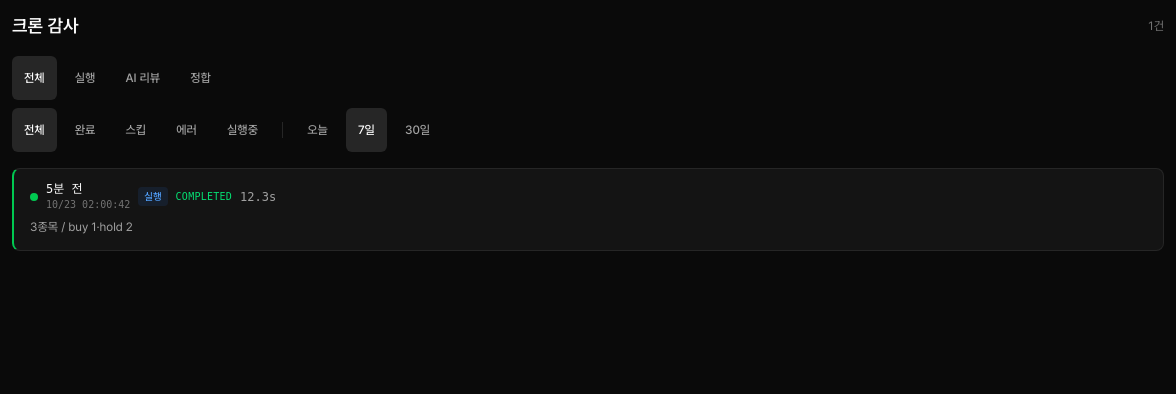
Test: CronRunsPage › renders the gate block alongside score components (merged detail shape)
Expected: the text "COMPLETED" is shown, [176,189,232,204]
Click the button "5분 전 10/23 02:00:42 실행 COMPLETED 12.3s 3종목 / buy 1·hold 2" at point(64, 189), box [14,169,1163,250]
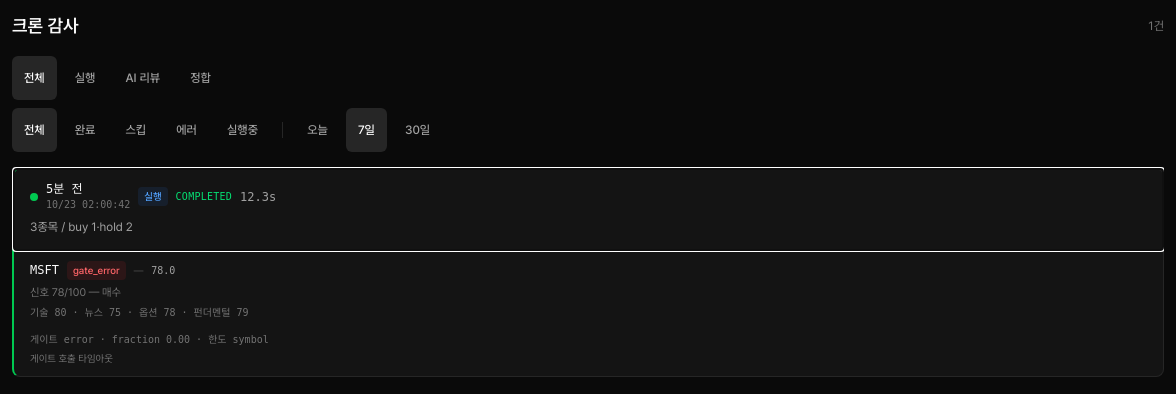
Expected: the text "MSFT" is shown, [30,262,59,278]
Expected: the text "기술 80 · 뉴스 75 · 옵션 78 · 펀더멘털 79" is shown, [30,307,248,318]
Expected: the text "게이트 error · fraction 0.00 · 한도 symbol" is shown, [30,334,269,345]
